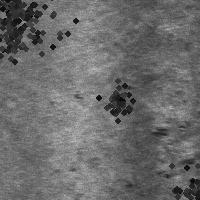rolled-in_scale: (0, 0, 85, 70), (146, 113, 200, 192), (0, 0, 55, 48), (0, 8, 39, 66), (157, 152, 200, 200), (94, 80, 136, 122), (0, 0, 36, 39)
